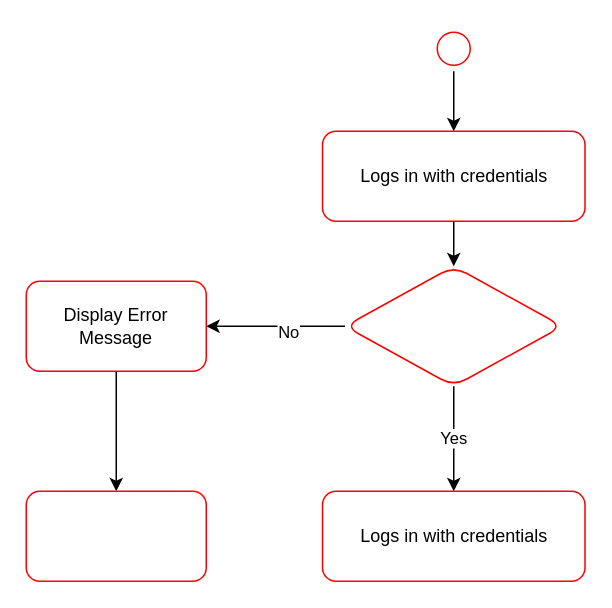
The diagram is 612 pixels wide and 608 high, and some of its shapes have lost their labels. The centre of each missing label's shape, as x and y in pixels:
"Credentials Verified?" belongs at pixel 453 325.
"Re-enter Credentials" belongs at pixel 115 535.
